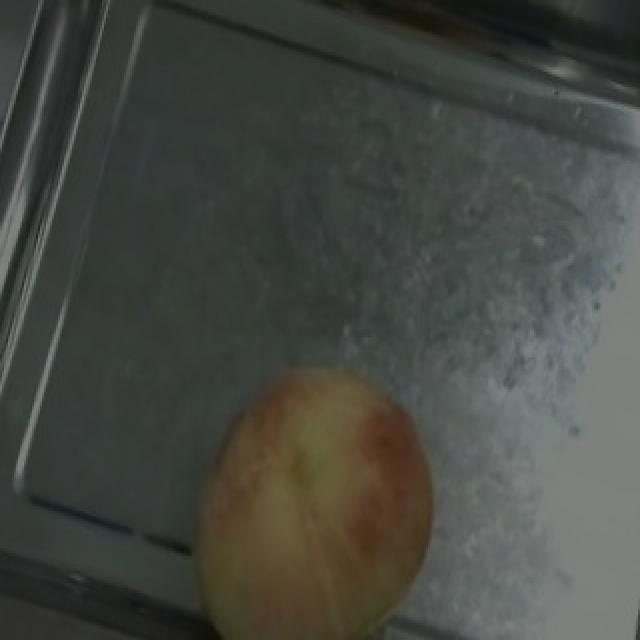Fruit: (150, 325, 474, 640)
